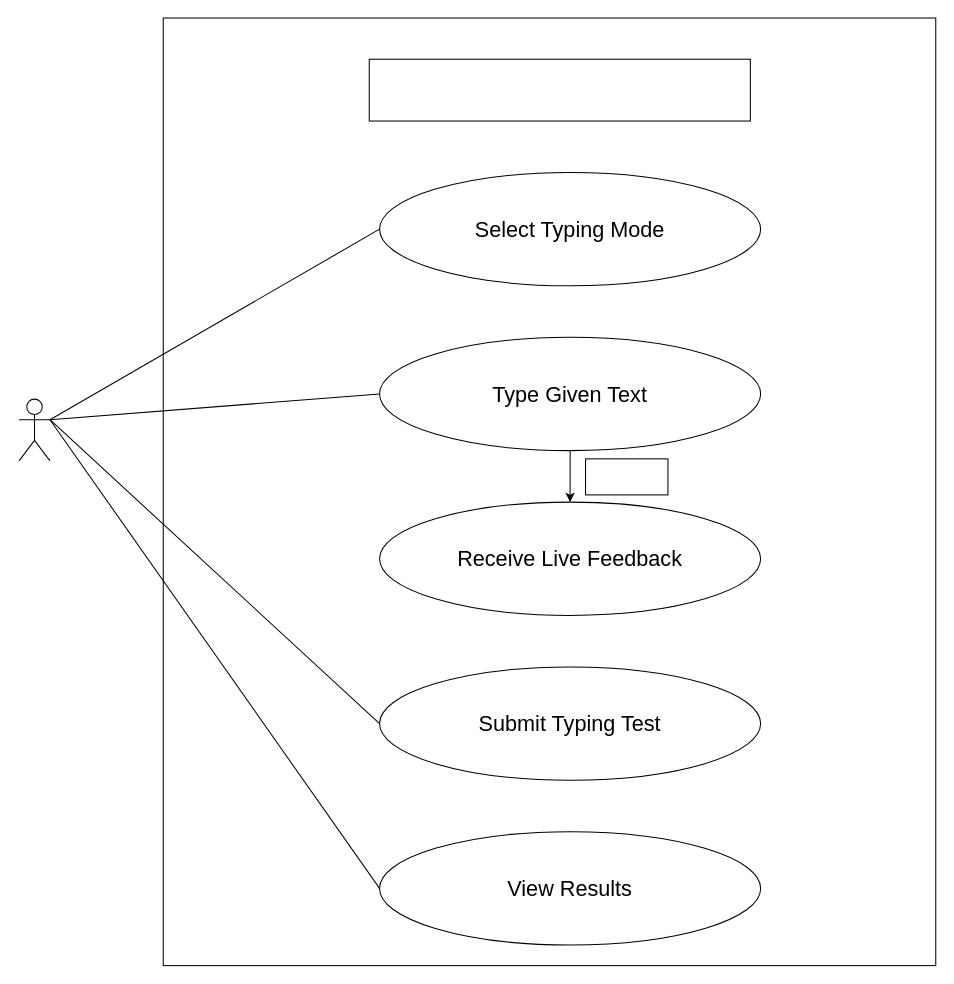
Some shapes in this 954 by 984 pixel diagram are drawn without their labels. The centre of each missing label's shape, as x and y in pixels:
"<<include>>" belongs at point 626,476.
"Typing Speed Tester" belongs at point 559,89.
"USER" belongs at point 34,429.
